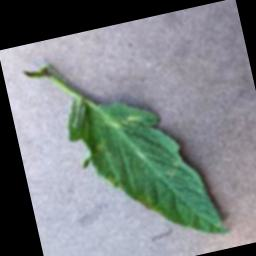Leaf_Mold: (132, 190, 159, 218)
